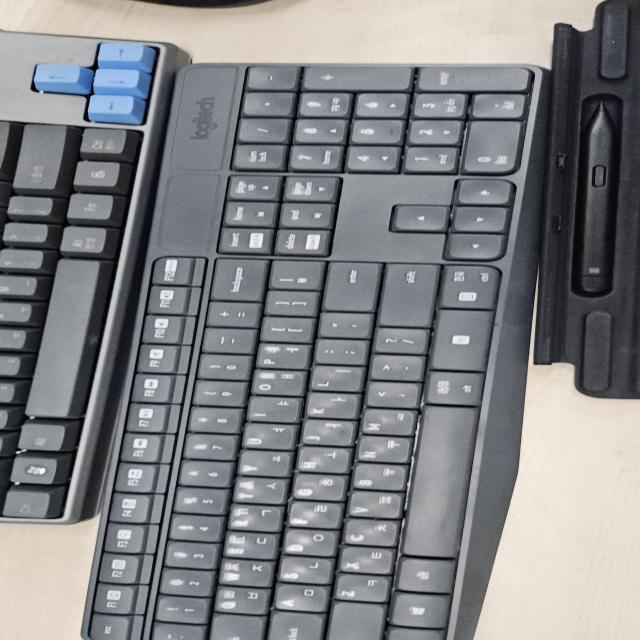Keyboard: (61, 60, 544, 640)
